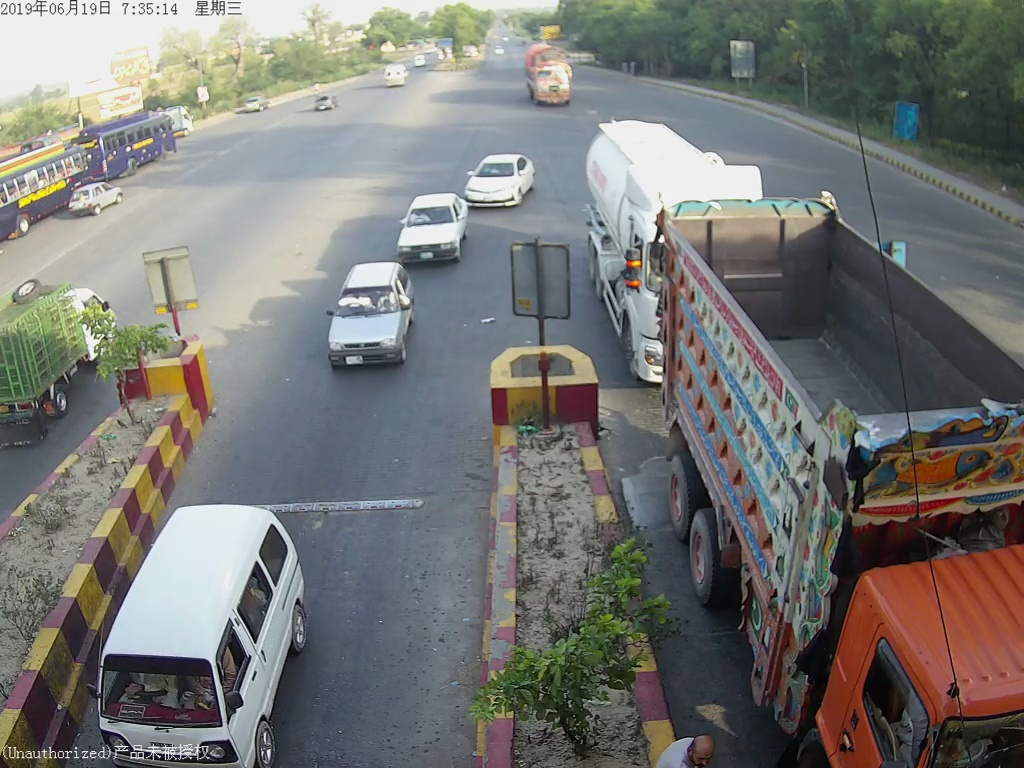Cat-1: (93, 503, 321, 757), (315, 263, 424, 369), (392, 198, 473, 259), (459, 152, 541, 203)
